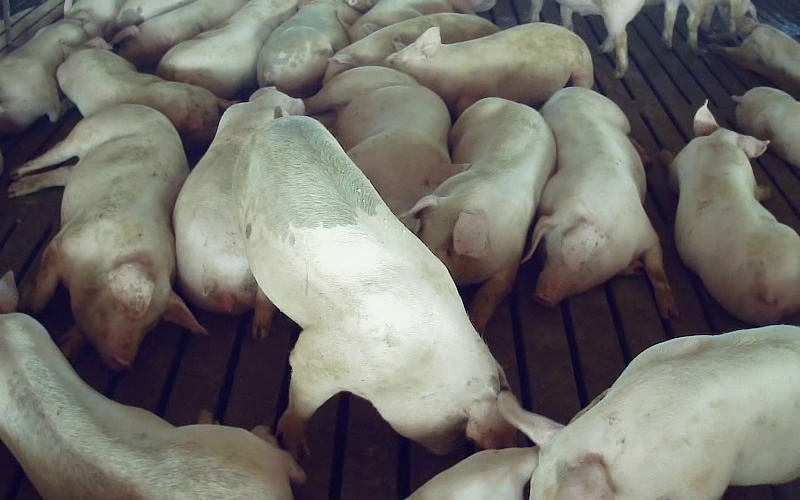pig: (233, 116, 512, 452), (499, 325, 799, 499), (9, 104, 204, 368), (402, 98, 555, 332), (523, 87, 675, 316), (173, 87, 304, 337), (660, 103, 799, 323), (304, 66, 467, 213), (57, 37, 230, 148), (323, 13, 499, 82), (0, 19, 87, 134), (257, 2, 348, 96), (732, 87, 799, 167)
